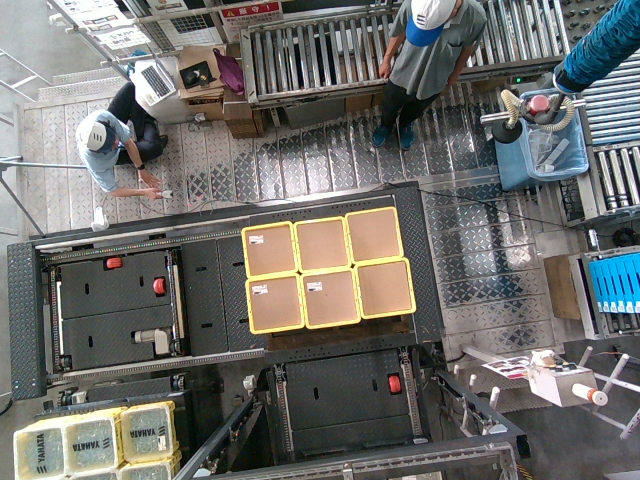box: (241, 224, 297, 273), (293, 218, 349, 267), (346, 210, 402, 259), (356, 265, 412, 314), (302, 272, 358, 321), (247, 277, 303, 326)
